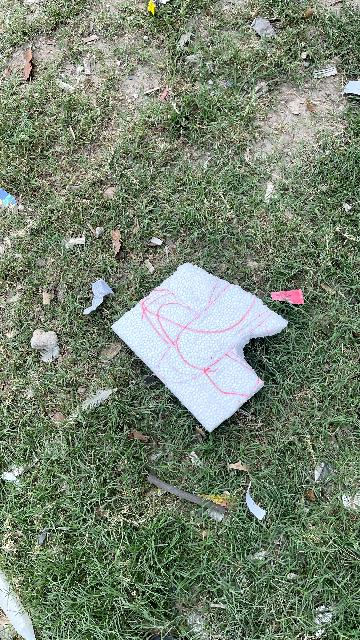cocksheet: (113, 253, 290, 434)
